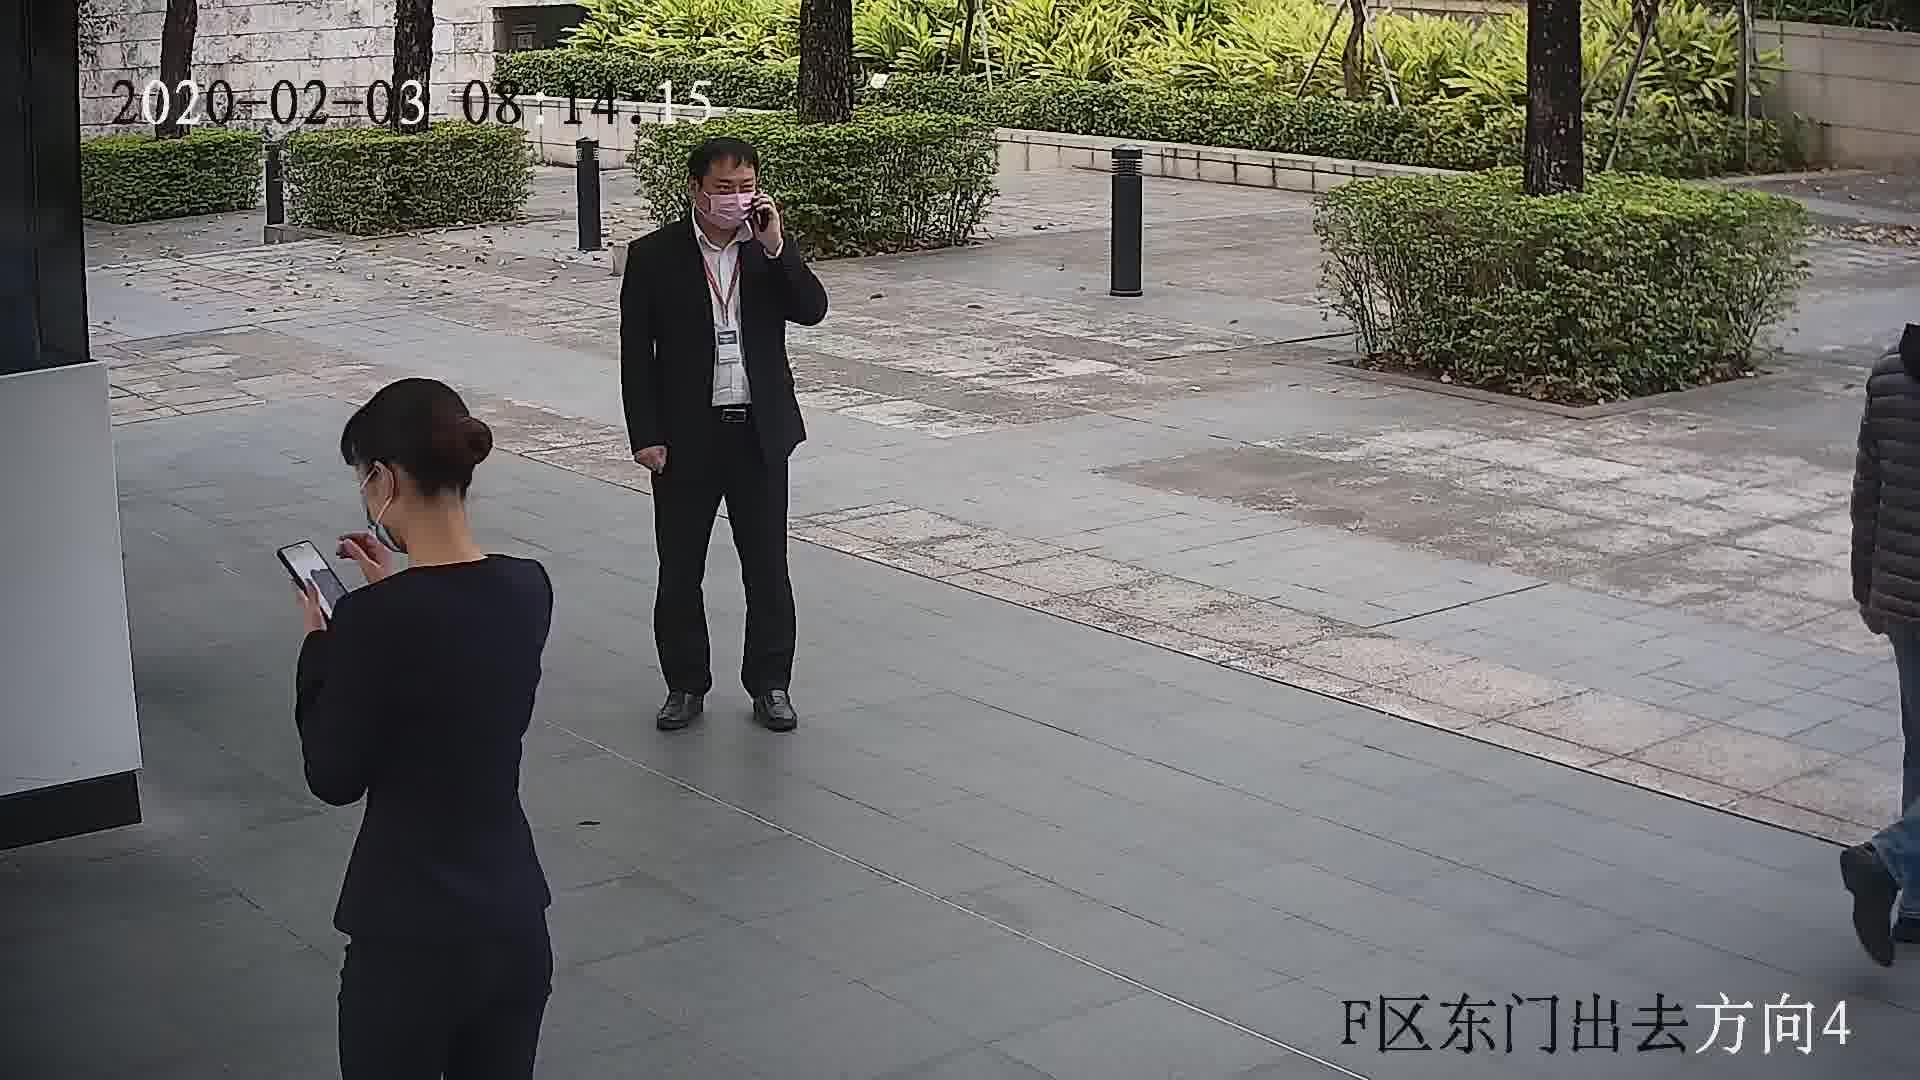face: (691, 153, 765, 227)
mask: (704, 185, 758, 228)
person: (314, 375, 569, 666), (624, 139, 789, 281), (1863, 309, 1920, 415)
